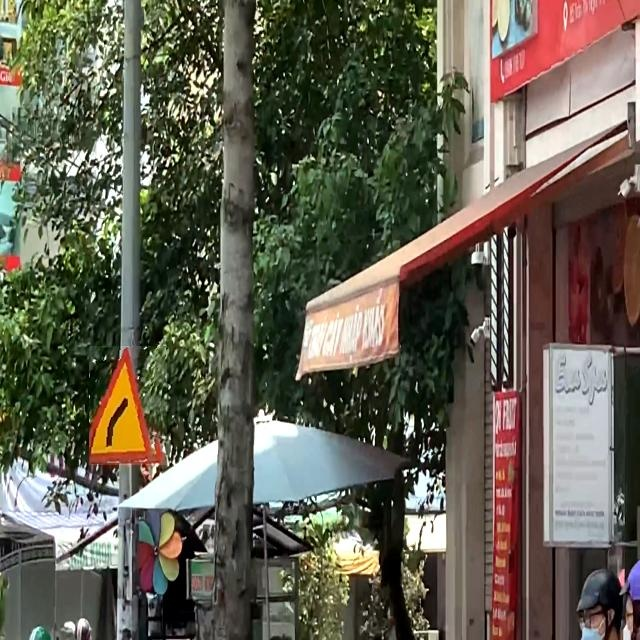bien_nguy_hiem: (89, 346, 167, 465)
